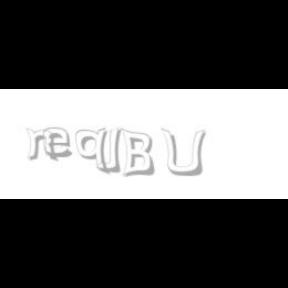B: (120, 128, 154, 178)
J: (96, 128, 122, 172)
U: (160, 128, 206, 178)
e: (44, 128, 76, 158)
n: (25, 128, 59, 162)
q: (75, 128, 111, 176)
